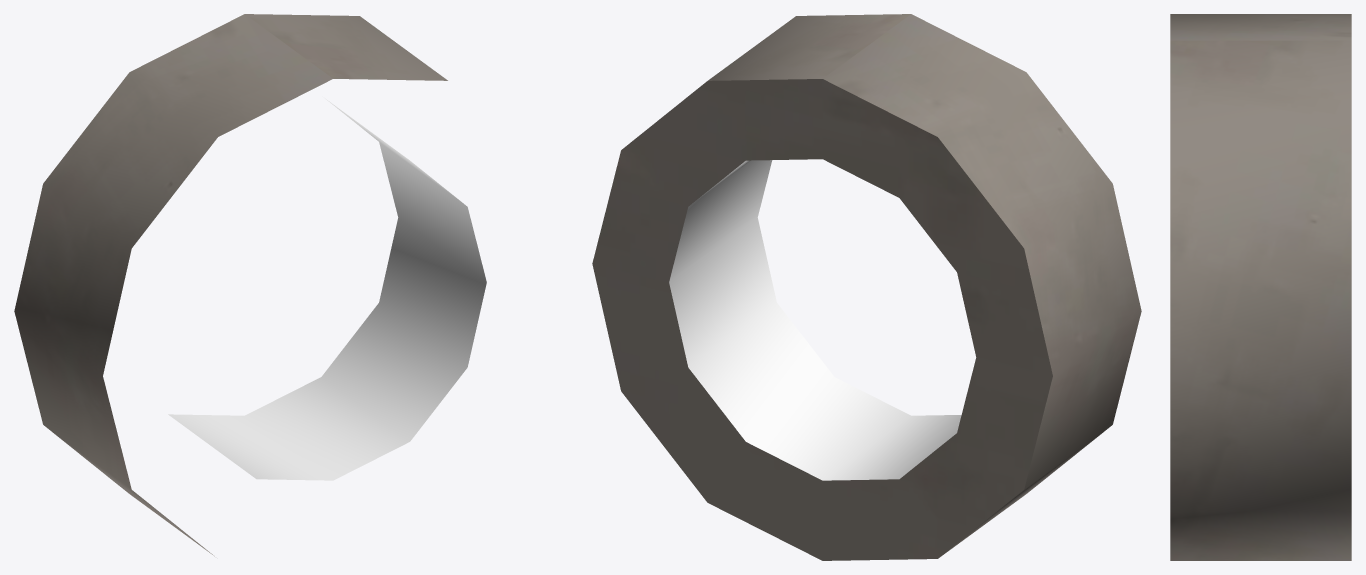
The picture shows the model from 3 angles, left to right: view 1: azimuth 30°, elevation 25°; view 2: azimuth 150°, elevation 25°; view 3: azimuth 270°, elevation 25°; orthographic projection. The views are drawn at different scales.
Visible parts, largest first — view 1: body0_model0_lod0_mesh0, body0_model0_lod0_mesh1; view 2: body0_model0_lod0_mesh0, body0_model0_lod0_mesh1; view 3: body0_model0_lod0_mesh0.
Boxes of the visible parts, x1,y1,x2,y2 form: body0_model0_lod0_mesh0: (14, 14, 447, 556); body0_model0_lod0_mesh1: (168, 98, 486, 480); body0_model0_lod0_mesh0: (592, 14, 1141, 560); body0_model0_lod0_mesh1: (669, 160, 961, 480); body0_model0_lod0_mesh0: (1170, 14, 1351, 560).
Bounding box in the file's own units: 96 × 96 × 32.
Materials: 2 (1 with a texture image).
